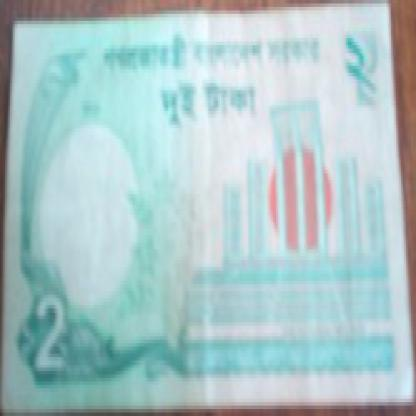two taka: (30, 284, 65, 413), (338, 28, 374, 104)
